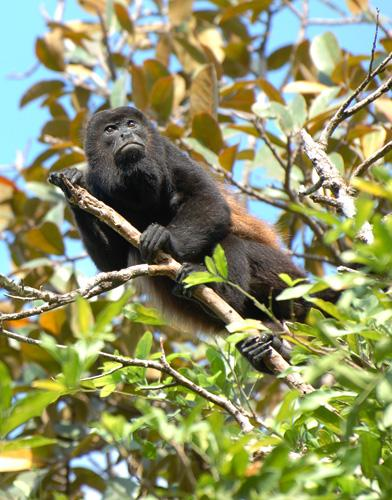monkey: (73, 105, 308, 328)
